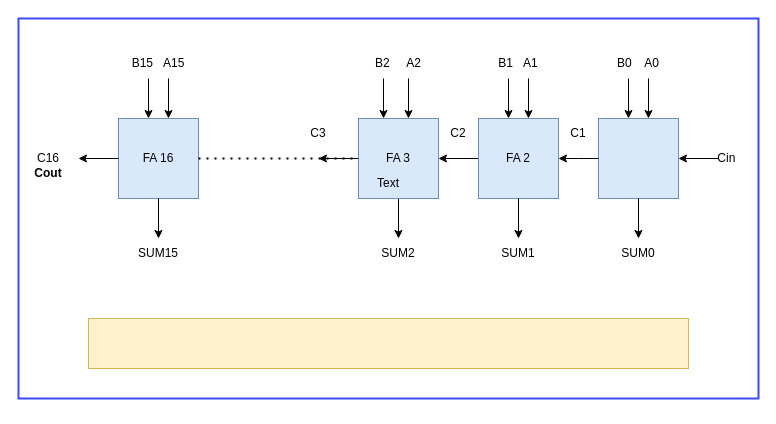
The diagram is 776 pixels wide and 424 high, and some of its shapes have lost their labels. Each missing label, with the box of its shape:
16-Bit Ripple Carry Adder (RCA) Architecture: (88, 318, 688, 368)
FA 1: (598, 118, 678, 198)
